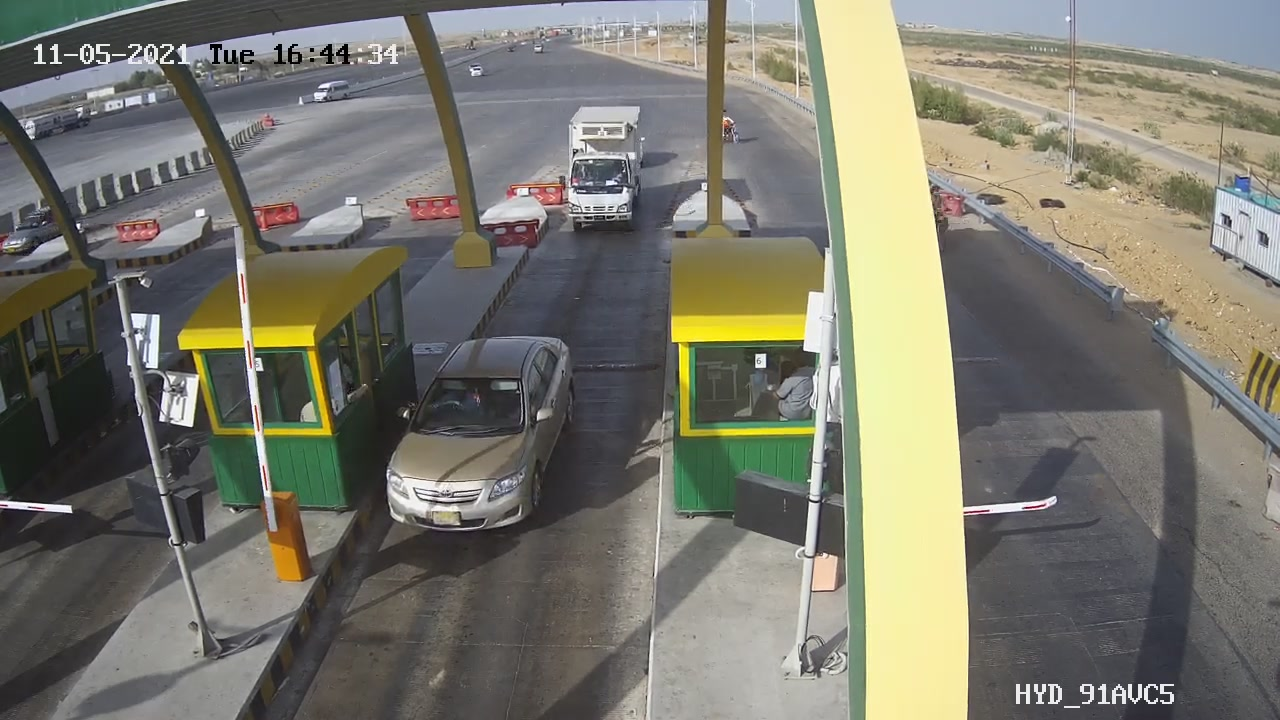F1: (363, 319, 600, 555)
